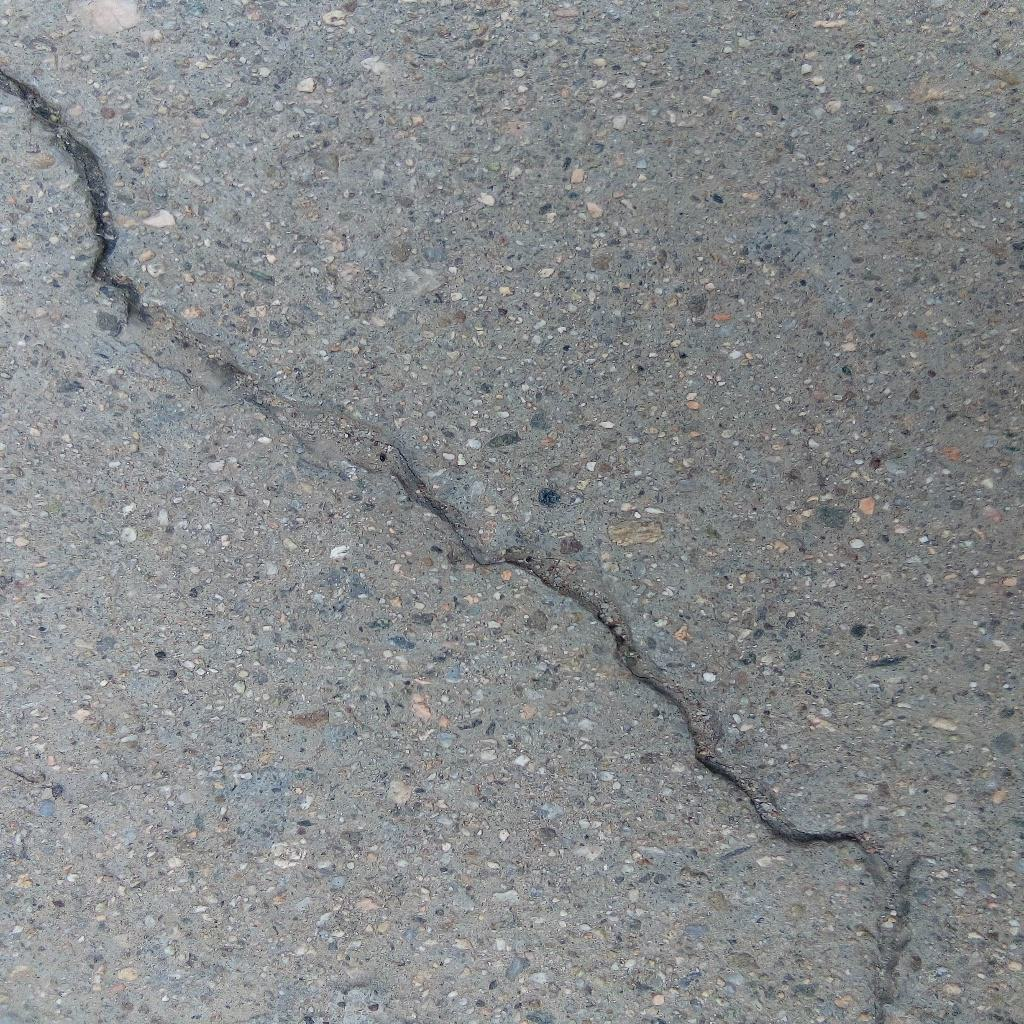Crack: (1, 67, 918, 1024)
